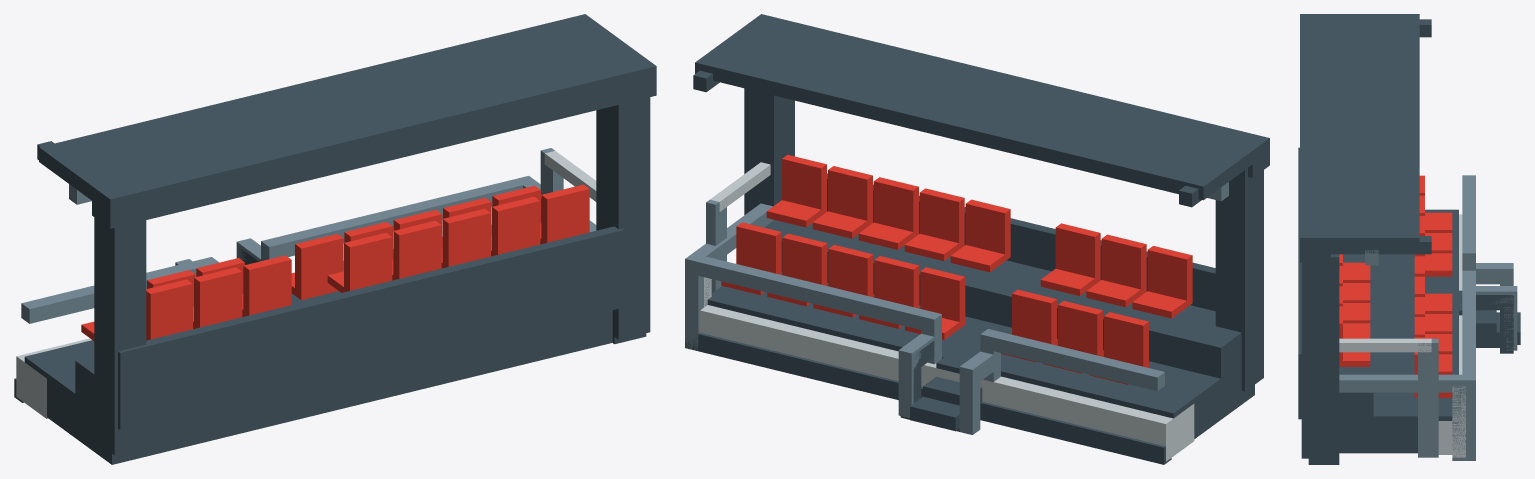
The model's file is Low Poly Sports Stands.glb.
3 renders of one model, left to right at view 1: azimuth 30°, elevation 25°; view 2: azimuth 150°, elevation 25°; view 3: azimuth 270°, elevation 25°, orthographic. The views are drawn at different scales.
Parts seen in each view (by area): view 1: group1224921009, group1831300781, group1669911092, group225044570, group1108734954, group1222647170, group1308512472, group993391130, group272314291, group1057306722, group1946496173, group1880770607 (+3 smaller); view 2: group1224921009, group1831300781, group225044570, group1669911092, group1946496173, group993391130, group1308512472, group1108734954, group1670958849, group1880770607, group272314291, group1876983552 (+12 smaller); view 3: group1224921009, group1669911092, group1876983552, group1222647170, group225044570, group993391130, group1831300781, group1487346835, group418912571, group1880770607, group272314291, group1639967090 (+12 smaller).
Part boxes in pixels (x1,y1,x2,y2): group1224921009: [39, 14, 656, 228]; group1831300781: [75, 226, 624, 430]; group1669911092: [24, 291, 612, 464]; group225044570: [327, 184, 589, 292]; group1108734954: [94, 217, 146, 455]; group1222647170: [600, 97, 650, 339]; group1308512472: [146, 255, 291, 340]; group993391130: [291, 185, 540, 300]; group272314291: [261, 176, 536, 260]; group1057306722: [21, 258, 207, 323]; group1946496173: [16, 338, 91, 418]; group1880770607: [81, 258, 244, 340]; group1224921009: [695, 14, 1269, 200]; group1831300781: [764, 173, 1241, 378]; group225044570: [766, 154, 1010, 272]; group1669911092: [707, 272, 1254, 438]; group1946496173: [700, 305, 1194, 461]; group993391130: [721, 222, 965, 339]; group1308512472: [1040, 223, 1192, 318]; group1108734954: [1215, 168, 1263, 391]; group1670958849: [685, 333, 1171, 464]; group1880770607: [1001, 289, 1148, 384]; group272314291: [685, 255, 941, 364]; group1876983552: [744, 88, 790, 214]; group1224921009: [1300, 14, 1419, 262]; group1669911092: [1339, 209, 1458, 453]; group1876983552: [1308, 254, 1339, 464]; group1222647170: [1301, 254, 1332, 458]; group225044570: [1339, 254, 1370, 366]; group993391130: [1414, 256, 1452, 397]; group1831300781: [1298, 147, 1373, 419]; group1487346835: [1339, 374, 1465, 392]; group418912571: [1418, 338, 1438, 457]; group1880770607: [1414, 175, 1452, 276]; group272314291: [1462, 270, 1475, 392]; group1639967090: [1452, 392, 1475, 460].
Bounding box in the file's own units: 1.55 × 0.75 × 0.65.
